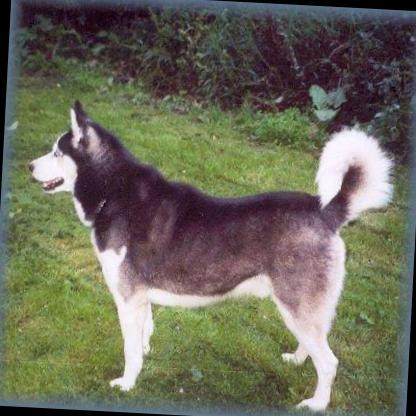Siberian_husky: (11, 95, 396, 409)
